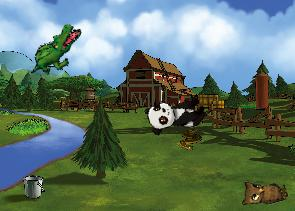crocodile: (28, 16, 83, 84)
owl: (237, 171, 289, 210)
panda: (143, 91, 209, 137)
